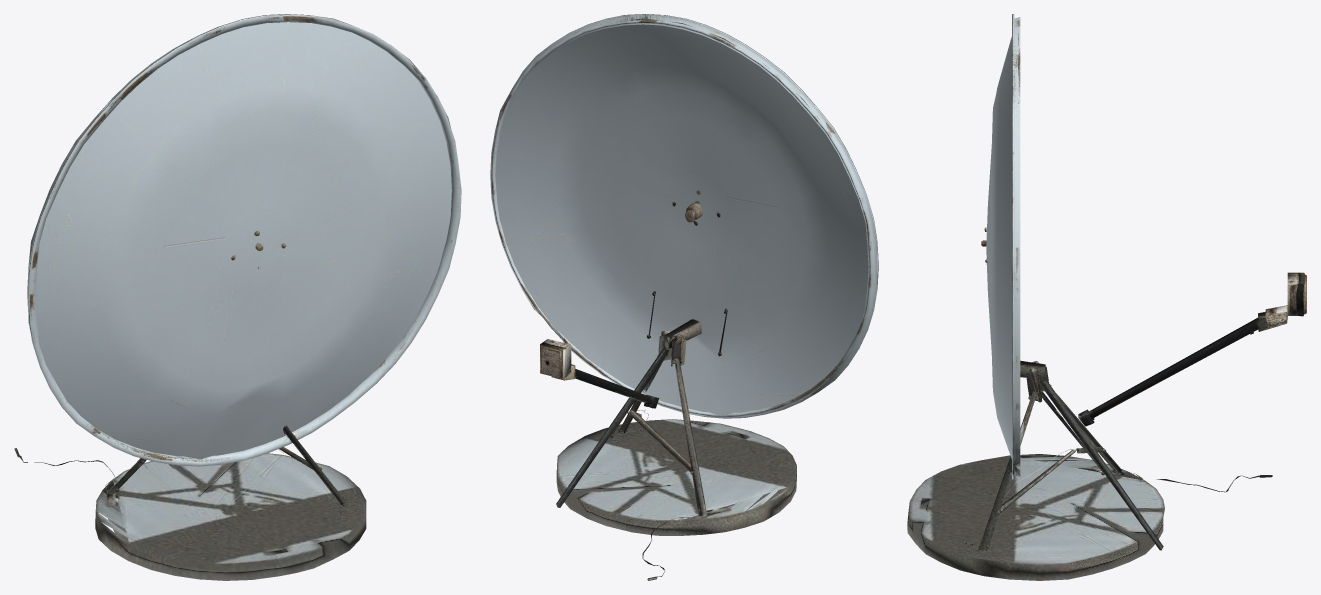
File: office-satellite-dish.glb
The picture shows the model from 3 angles, left to right: view 1: azimuth 30°, elevation 25°; view 2: azimuth 150°, elevation 25°; view 3: azimuth 270°, elevation 25°; orthographic projection. The views are drawn at different scales.
Parts seen in each view (by area): view 1: satellite-dish; view 2: satellite-dish; view 3: satellite-dish.
Boxes of the visible parts, x1,y1,x2,y2 form: satellite-dish: (14, 14, 461, 580); satellite-dish: (490, 14, 878, 580); satellite-dish: (907, 14, 1306, 580).
Size of the model in its own units: 1.59 by 1.8 by 1.33.
1 material, 1 textured.
